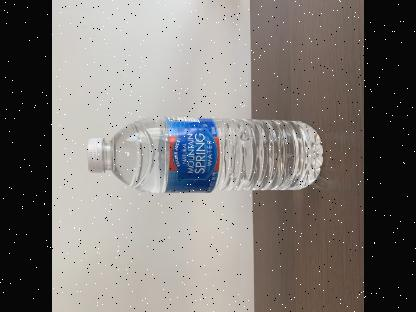Plastic Bottle: (83, 114, 323, 192)
